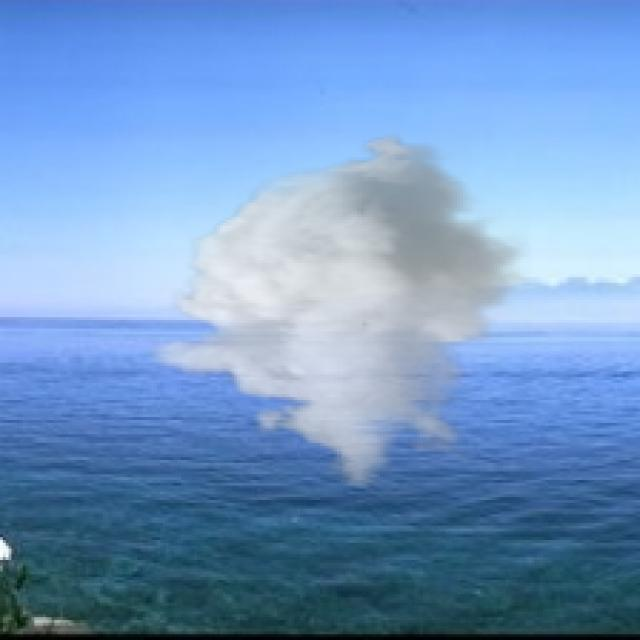Smoke: (146, 132, 532, 488)
